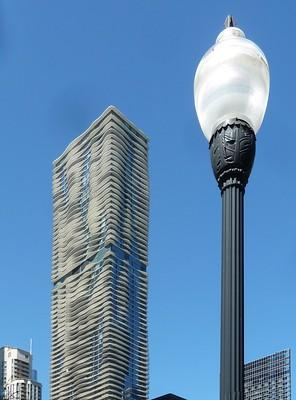building: (47, 100, 152, 398)
